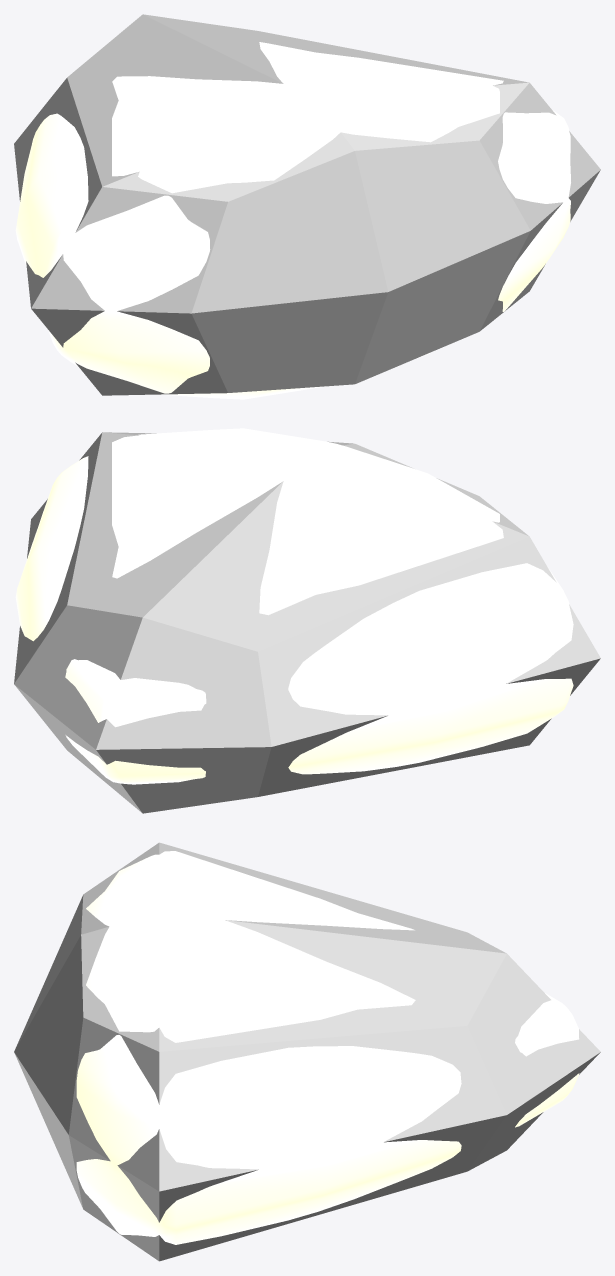
Rendered from Forcefield.fbx.
3 renders of one model, top to bottom at view 1: azimuth 30°, elevation 25°; view 2: azimuth 150°, elevation 25°; view 3: azimuth 270°, elevation 25°, orthographic.
Parts seen in each view (by area): view 1: A.Forcefield, B.Forcefield; view 2: B.Forcefield, A.Forcefield; view 3: B.Forcefield, A.Forcefield.
Boxes of the visible parts, bbox=[...] form: A.Forcefield: bbox=[14, 14, 600, 395]; B.Forcefield: bbox=[15, 42, 570, 399]; B.Forcefield: bbox=[15, 428, 573, 784]; A.Forcefield: bbox=[14, 432, 600, 813]; B.Forcefield: bbox=[76, 851, 579, 1244]; A.Forcefield: bbox=[14, 842, 600, 1261].
Size of the model in its own units: 355 by 169 by 315.
